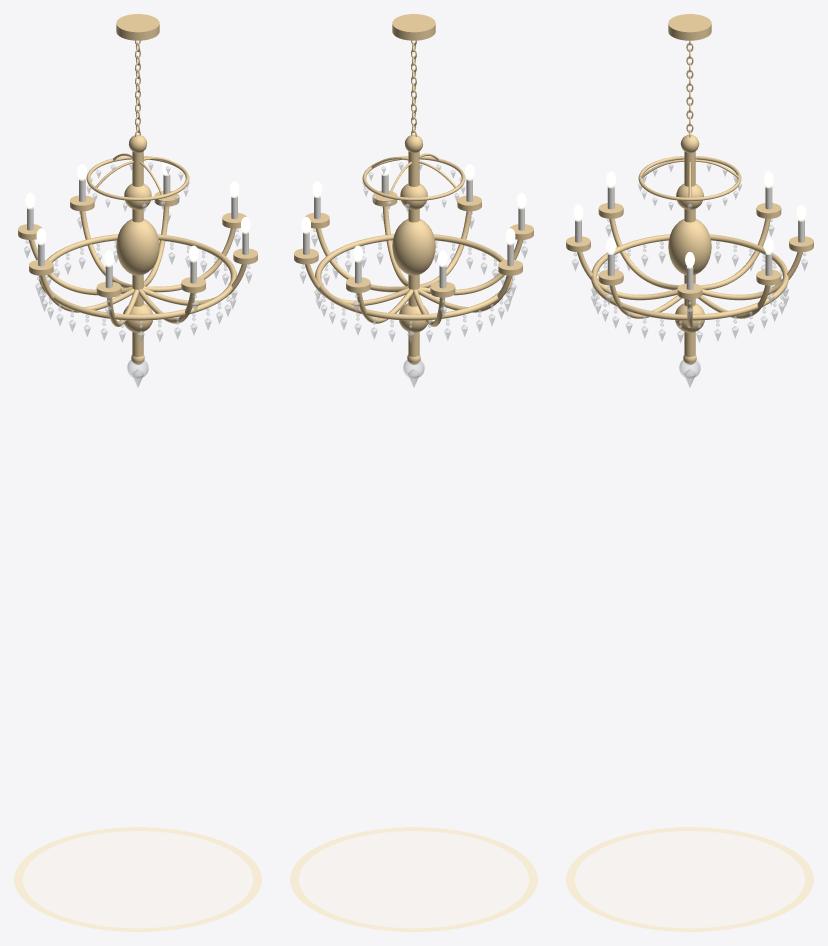
3 renders of one model, left to right at view 1: azimuth 30°, elevation 25°; view 2: azimuth 150°, elevation 25°; view 3: azimuth 270°, elevation 25°, orthographic.
Visible parts, largest first — view 1: Brass frame, Crystals, Ring, Candle sleeves, Bulbs; view 2: Brass frame, Crystals, Ring, Candle sleeves, Bulbs; view 3: Brass frame, Crystals, Ring, Candle sleeves, Bulbs.
Part boxes in pixels (x1,y1,x2,y2): Brass frame: (18, 14, 257, 364); Crystals: (24, 162, 251, 387); Ring: (14, 827, 261, 931); Candle sleeves: (27, 174, 248, 288); Bulbs: (25, 162, 250, 265); Brass frame: (294, 14, 533, 364); Crystals: (300, 162, 527, 387); Ring: (290, 827, 537, 931); Candle sleeves: (303, 174, 524, 288); Bulbs: (301, 162, 526, 265); Brass frame: (566, 14, 813, 364); Crystals: (572, 163, 807, 387); Ring: (566, 827, 813, 931); Candle sleeves: (575, 186, 804, 289); Bulbs: (573, 171, 806, 267).
Bounding box in the file's own units: 0.8 × 3.05 × 0.8.
